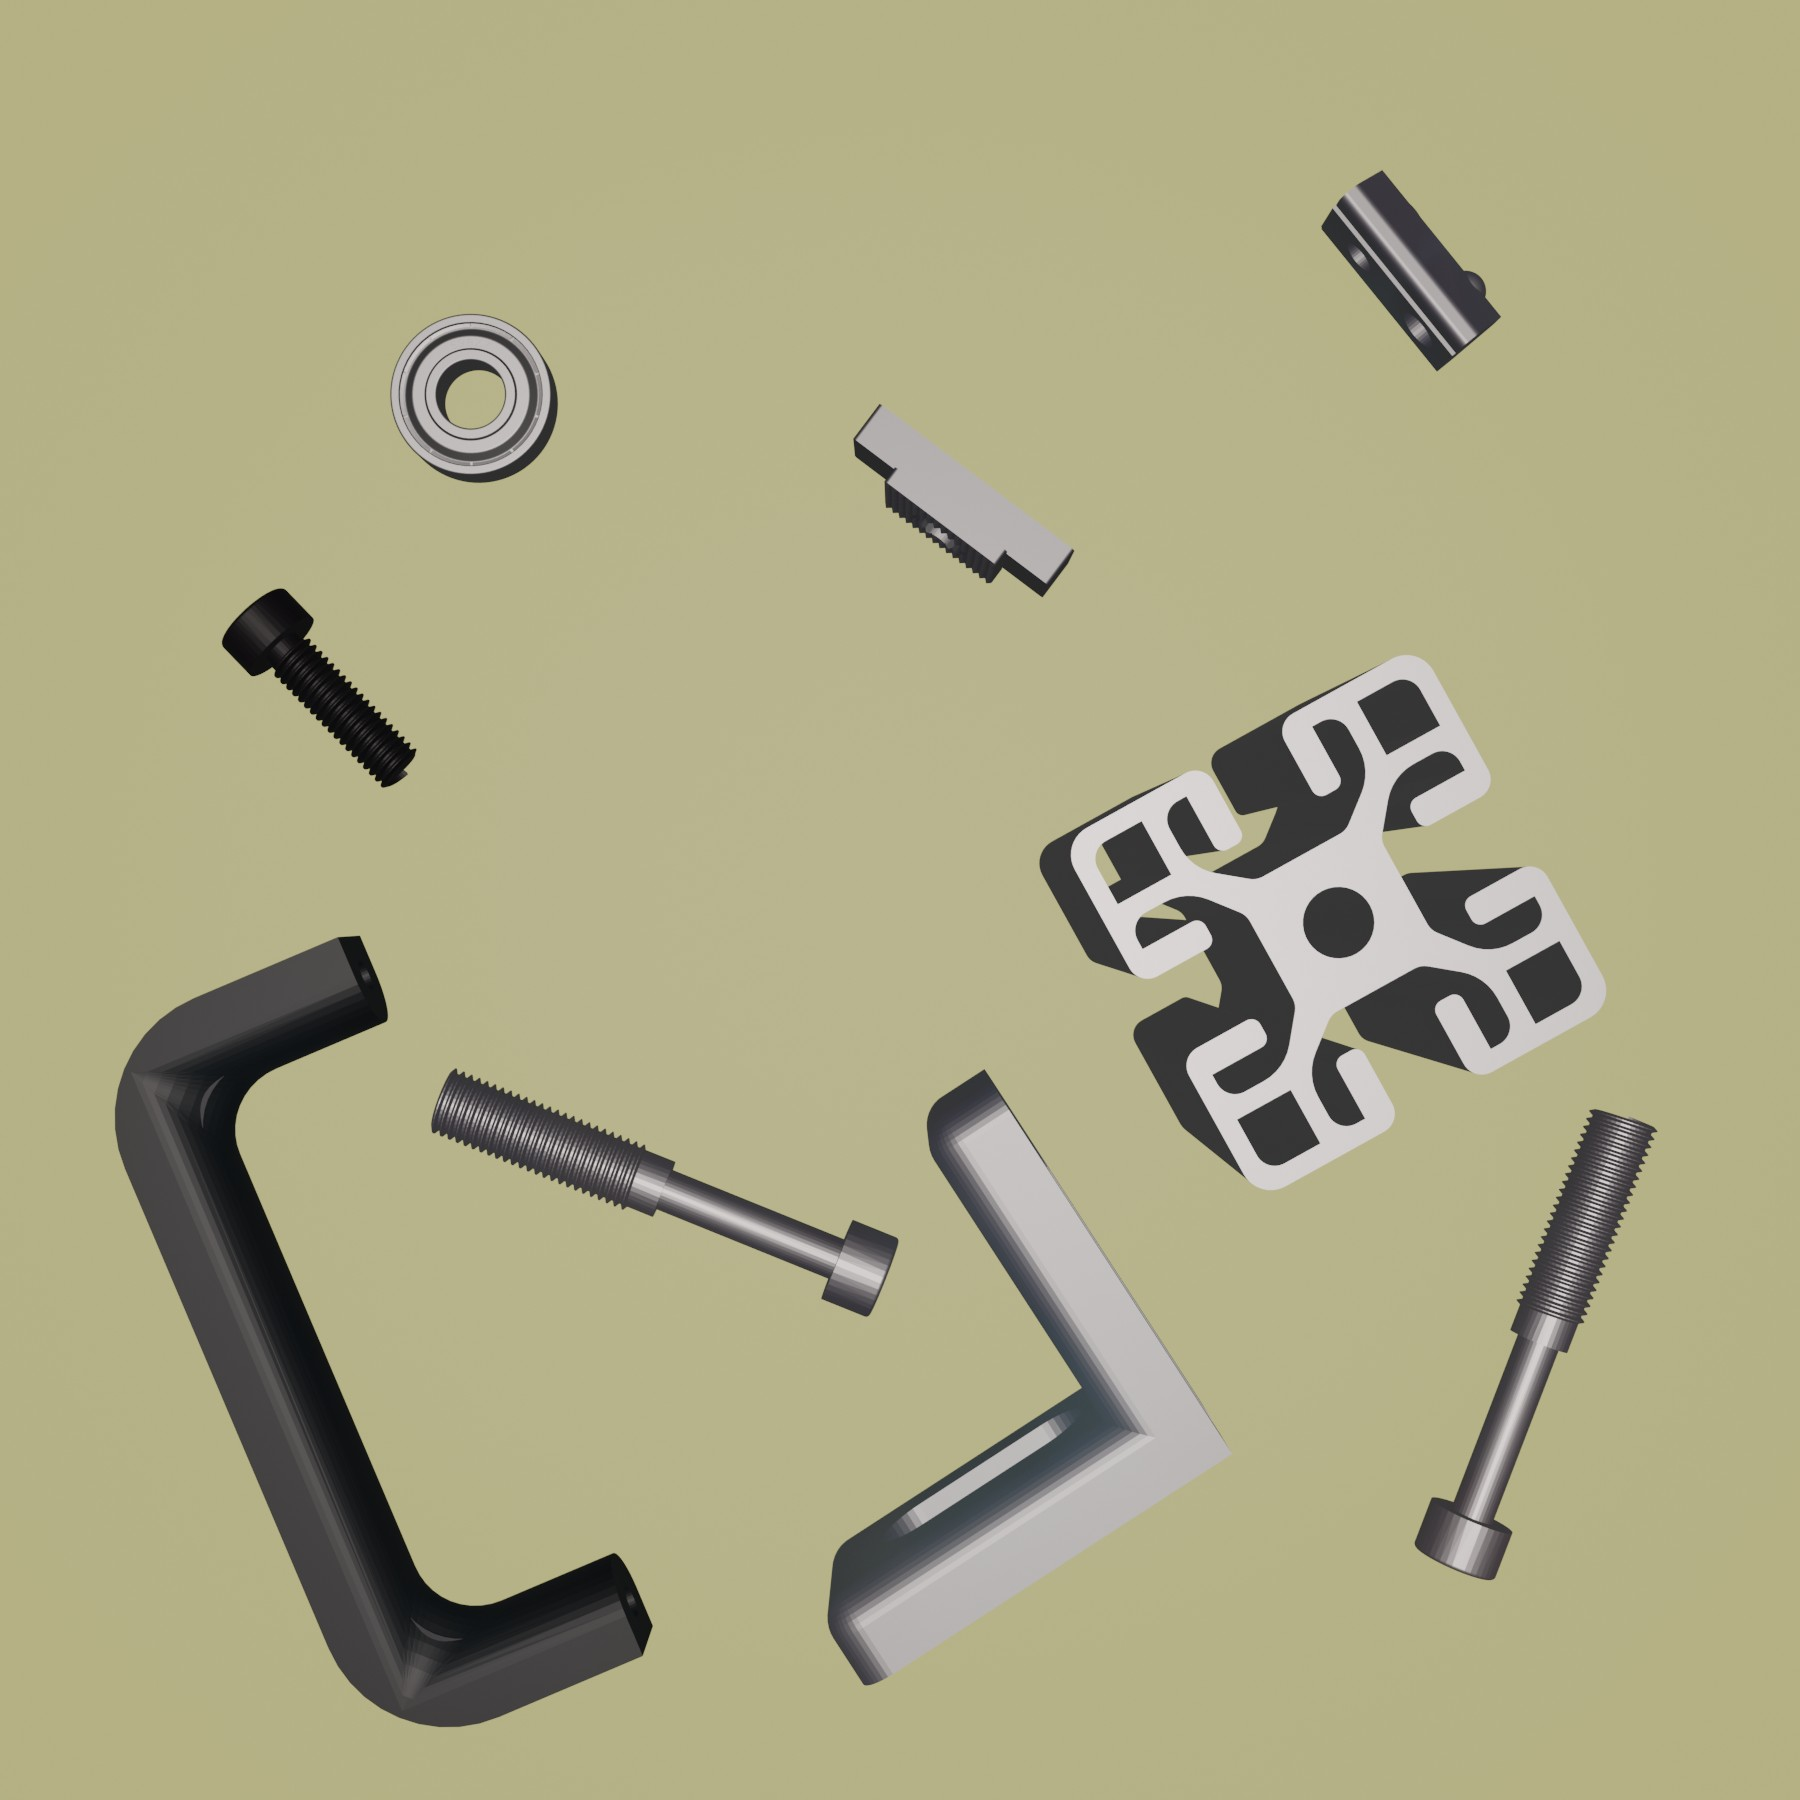Aluminium Extension: (1035, 651, 1612, 1197)
Ball Bearing: (389, 308, 560, 485)
Multiwinkel: (823, 1062, 1235, 1686)
Pull Handle: (110, 930, 656, 1731)
Shoulder Socket Head Cap Screw: (429, 1070, 902, 1324), (1413, 1103, 1658, 1584)
Socket Head Cap Screw: (219, 584, 419, 791)
T Nut Square: (847, 399, 1080, 602)
T Spring Nut: (1315, 166, 1502, 374)
